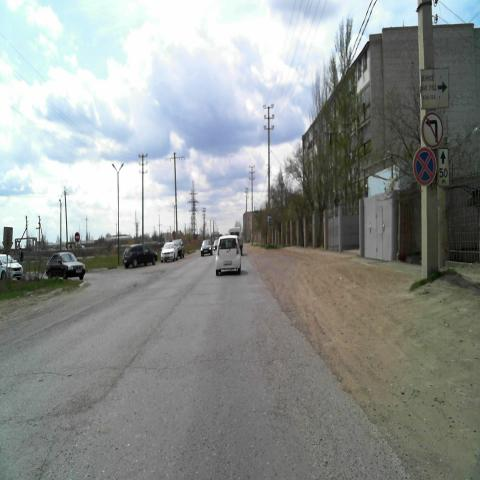3_18_2: (422, 111, 443, 148)
8_2_2: (438, 146, 448, 186)
